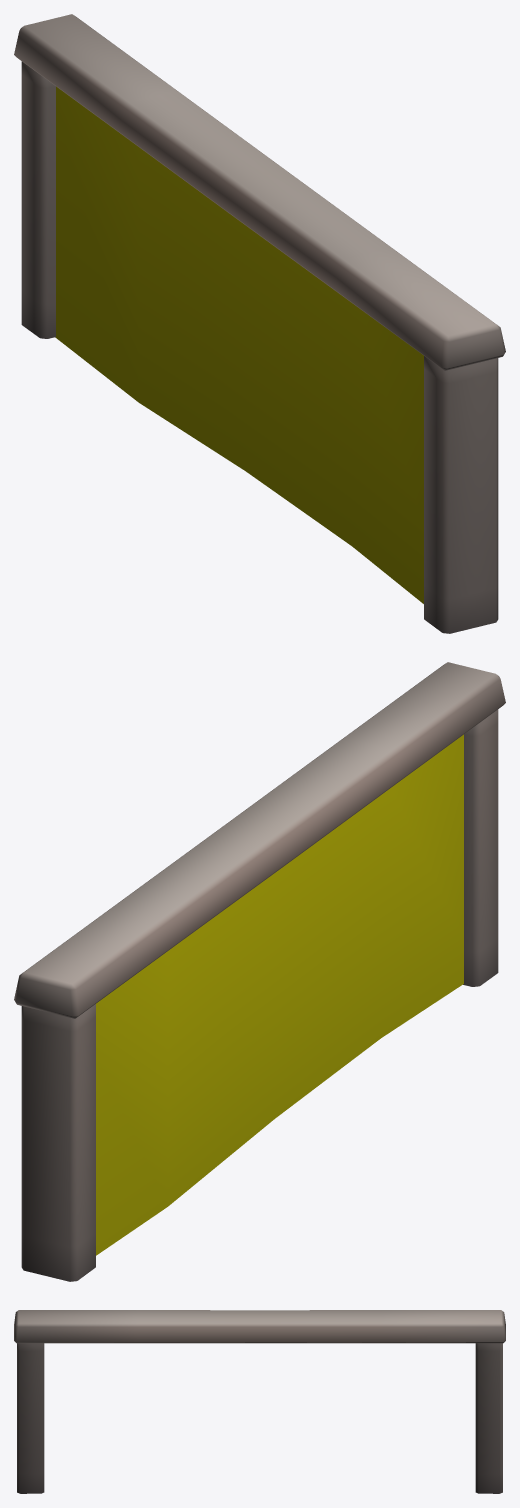
File: PlasteredWall01.glb
3 views of the same model, one above another, from view 1: azimuth 30°, elevation 25°; view 2: azimuth 150°, elevation 25°; view 3: azimuth 270°, elevation 25° (orthographic). The views are drawn at different scales.
Visible parts, largest first — view 1: PlasteredWall01; view 2: PlasteredWall01; view 3: PlasteredWall01.
Part boxes in pixels (x1=…): PlasteredWall01: x1=14, y1=14, x2=505, y2=633; PlasteredWall01: x1=14, y1=662, x2=505, y2=1281; PlasteredWall01: x1=14, y1=1310, x2=505, y2=1493.
Bounding box in the file's own units: 0.7885 × 3.52 × 9.12.
Materials: 2 (1 with a texture image).
